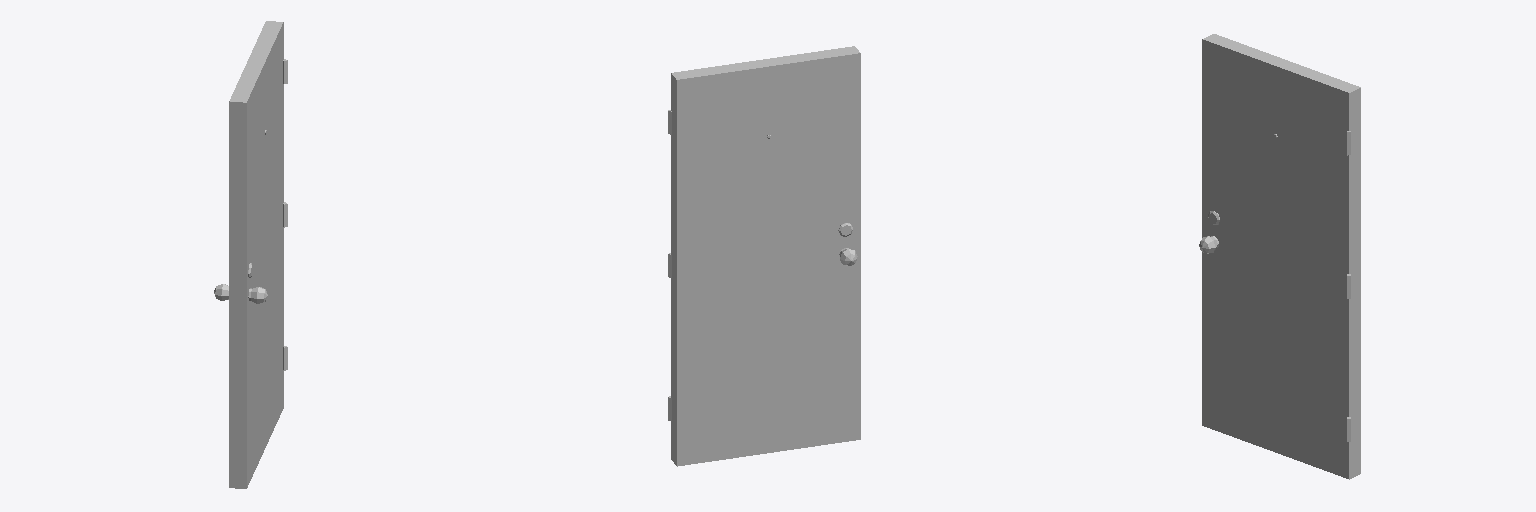
File: DoorRoom_E.obj
The picture shows the model from 3 angles: view 1: azimuth 30°, elevation 25°; view 2: azimuth 150°, elevation 25°; view 3: azimuth 270°, elevation 25°; orthographic projection.
Parts seen in each view (by area): view 1: DoorRoom_E_DoorRoom.009; view 2: DoorRoom_E_DoorRoom.009; view 3: DoorRoom_E_DoorRoom.009.
Part boxes in pixels (left/top/right/bottom): DoorRoom_E_DoorRoom.009: left=214, top=21, right=287, bottom=488; DoorRoom_E_DoorRoom.009: left=668, top=46, right=860, bottom=466; DoorRoom_E_DoorRoom.009: left=1199, top=34, right=1360, bottom=479.
Bounding box in the file's own units: 0.7102 × 2.02 × 0.7674.